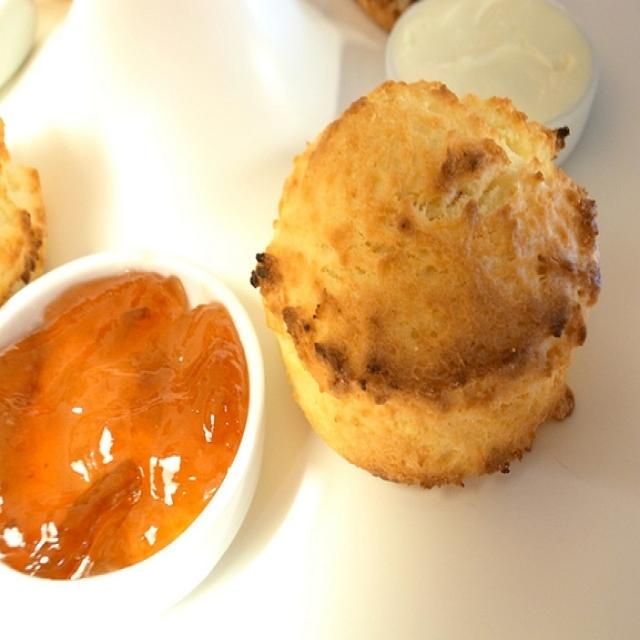面包点心: (5, 1, 629, 615)
